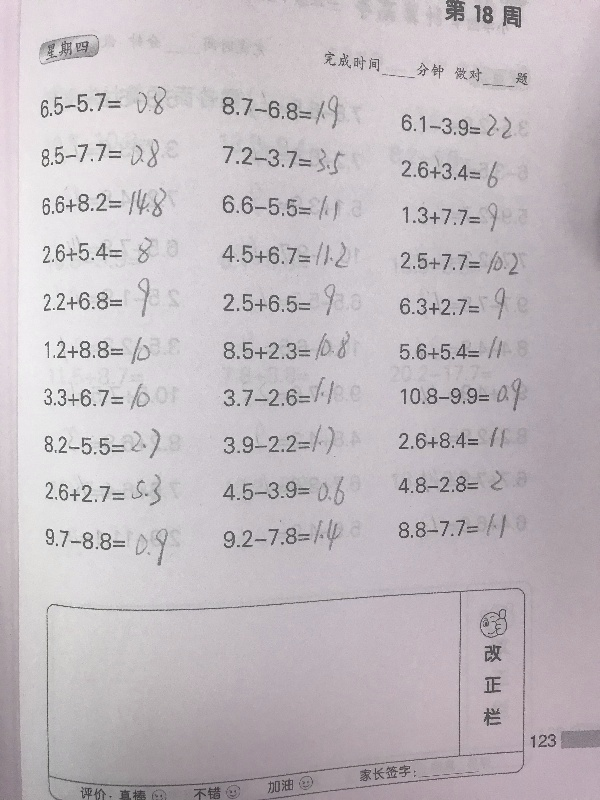equation: (42, 524, 181, 569), (39, 271, 168, 317), (35, 85, 178, 123), (216, 90, 346, 131), (393, 377, 531, 415), (387, 419, 525, 457), (384, 461, 522, 499), (385, 508, 523, 546), (219, 277, 349, 317), (219, 137, 349, 177), (41, 425, 177, 463), (219, 239, 350, 278), (39, 228, 172, 266), (220, 327, 350, 365), (214, 372, 344, 410), (213, 421, 343, 459), (220, 472, 350, 510), (216, 517, 346, 555), (39, 184, 171, 221), (42, 471, 165, 510), (397, 153, 531, 188), (392, 199, 526, 234), (395, 244, 529, 279), (391, 286, 525, 321), (387, 332, 521, 367), (38, 135, 164, 172), (397, 107, 532, 139), (218, 188, 346, 220), (40, 335, 154, 369), (40, 382, 153, 415)
